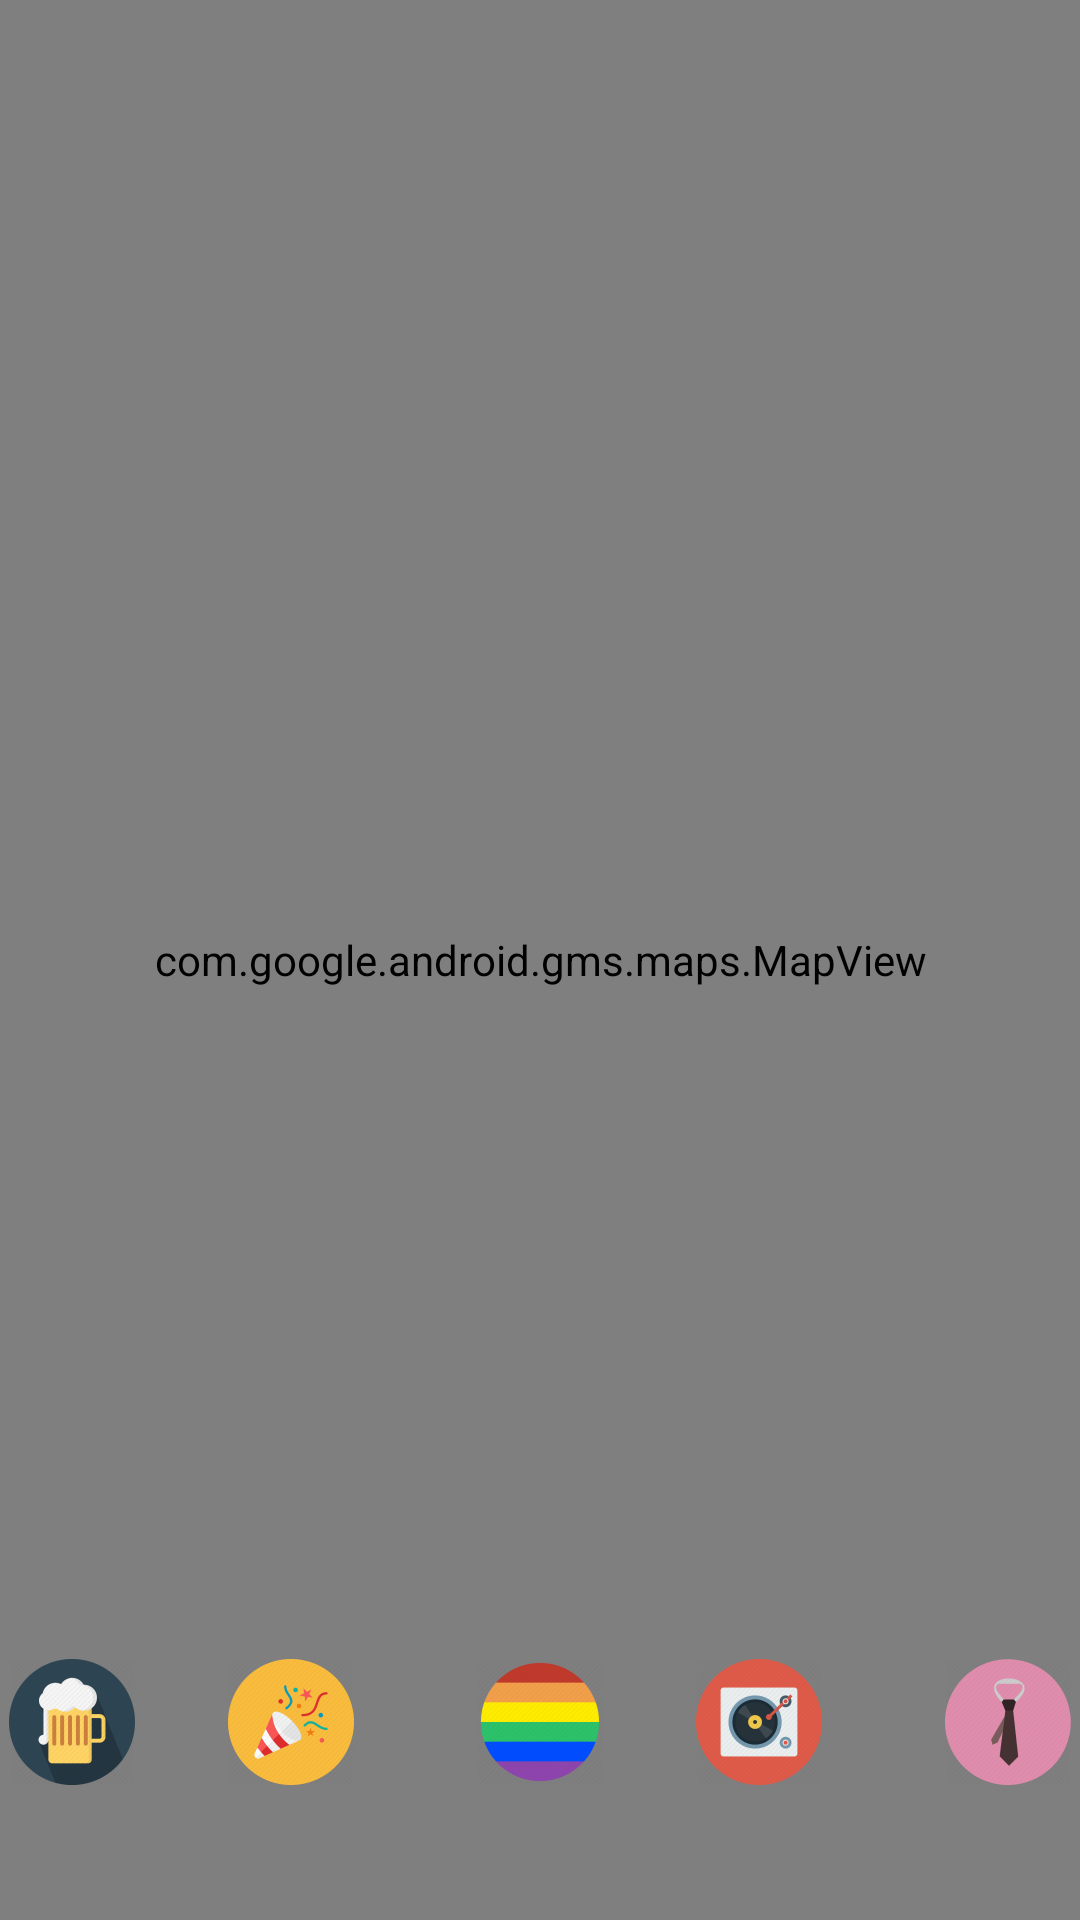

Point at icon controls on the screen. Image size 1080px×1920px, points as point (x, y).
beer: point (72, 1722)
fiesta: point (291, 1722)
